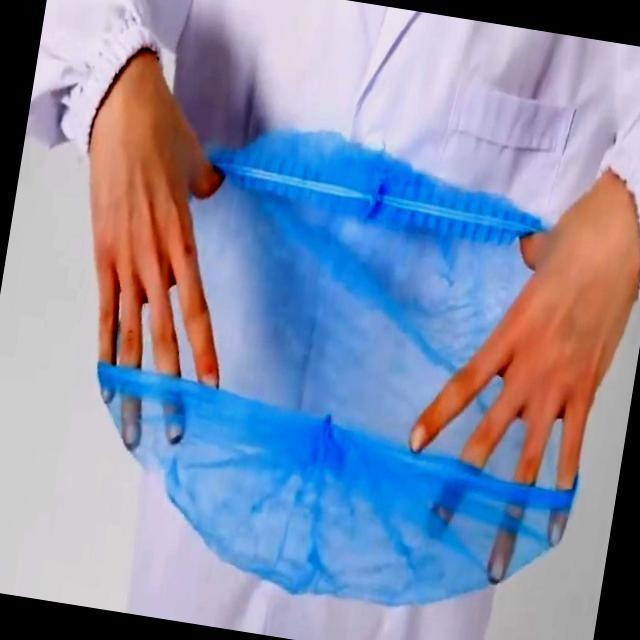no_apron: (412, 135, 640, 581), (81, 56, 228, 447)
